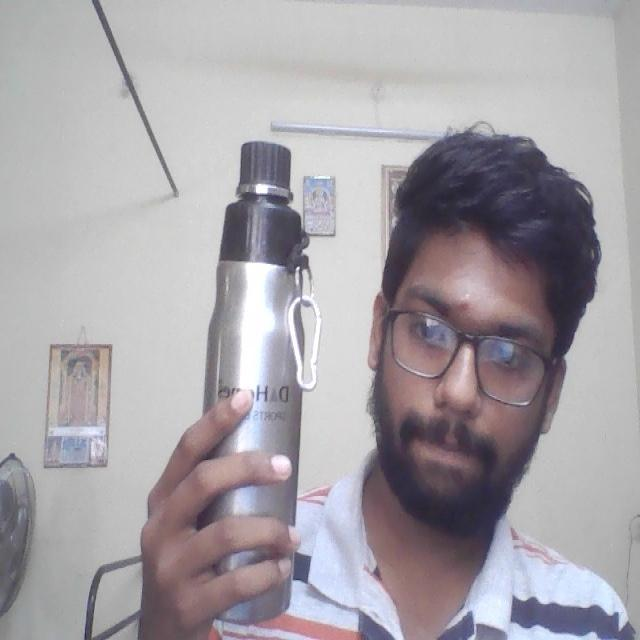Drinking: (210, 133, 312, 614)
